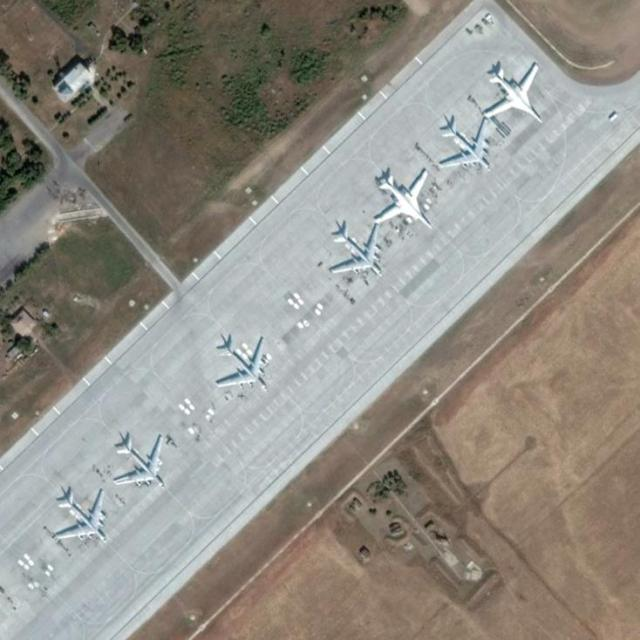fighter jet: (319, 213, 381, 278), (108, 424, 168, 490), (483, 58, 547, 119), (371, 166, 431, 230), (433, 111, 486, 179), (217, 337, 275, 398), (45, 484, 108, 540)
